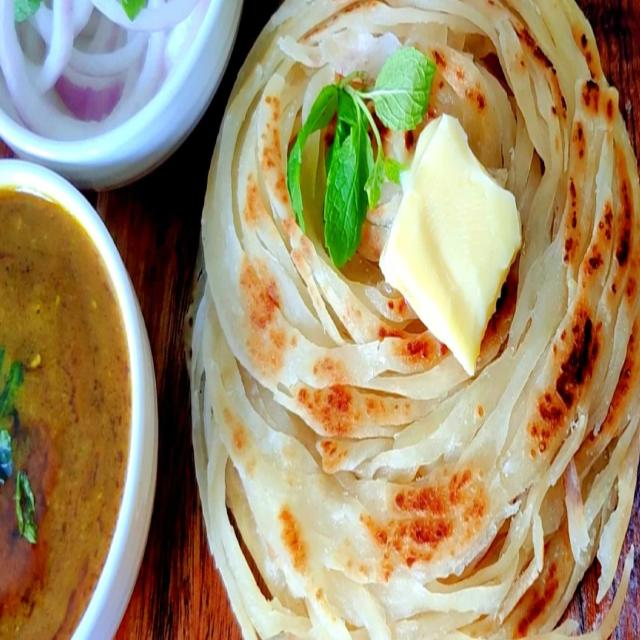CURRY: (0, 187, 133, 639)
PAROTTA: (188, 0, 639, 639)
